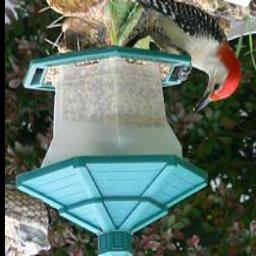Woodpecker: (111, 0, 241, 114)
